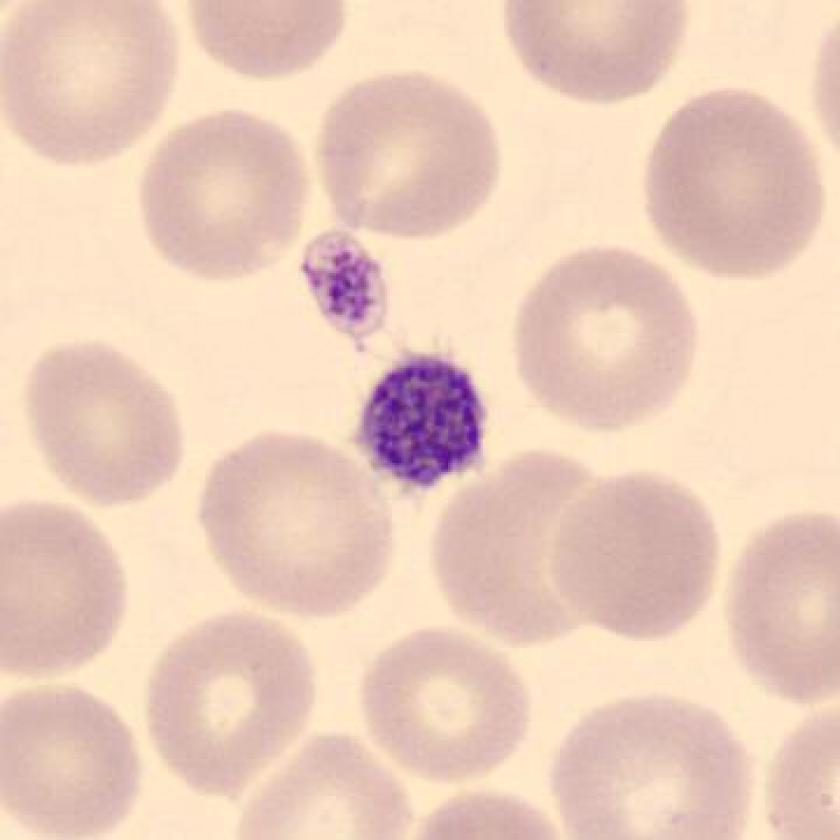platelets: (354, 348, 494, 501), (293, 219, 398, 353)
